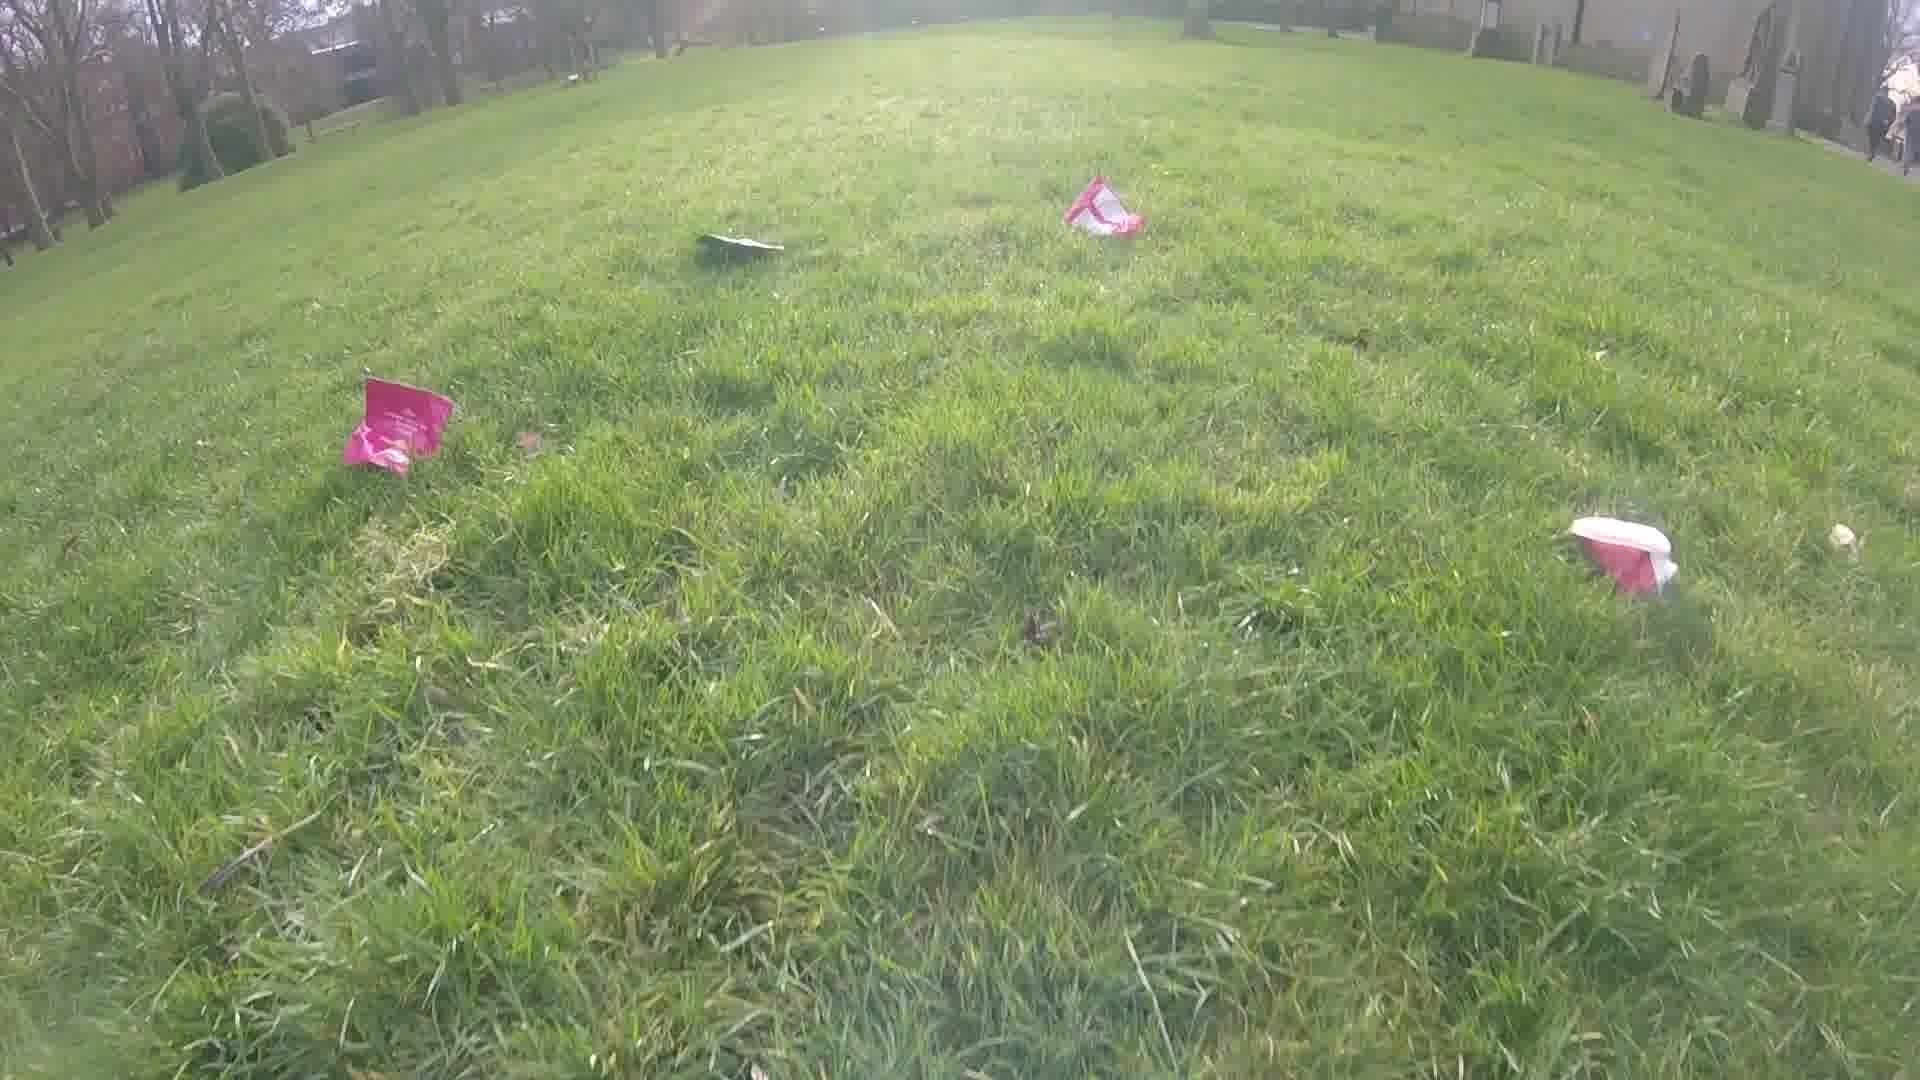litter: (351, 385, 444, 483), (1569, 514, 1676, 595), (1065, 187, 1141, 237), (694, 233, 785, 251)
